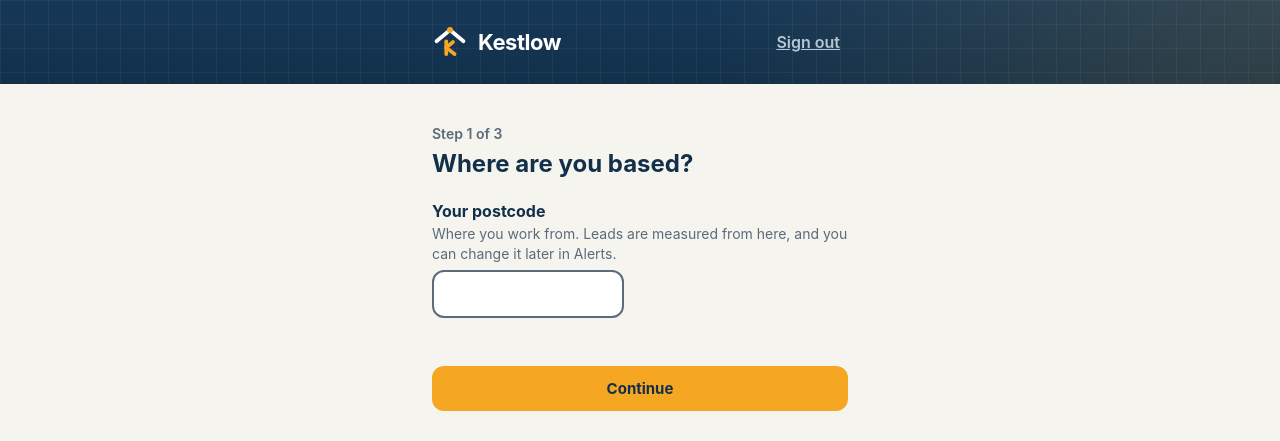
Test: OnboardingGate › goes back to the previous question
In the field labelled "Your postcode": x=528, y=294 top-left (432, 270), bottom-right (624, 318), type "BR1 1AA"
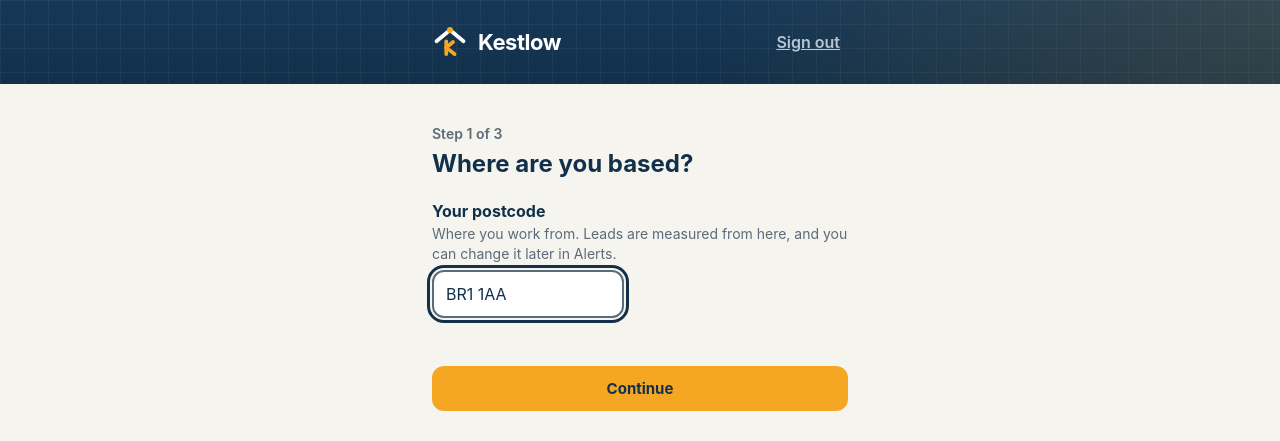
Click the button "Continue": x=640, y=389 top-left (432, 366), bottom-right (848, 411)
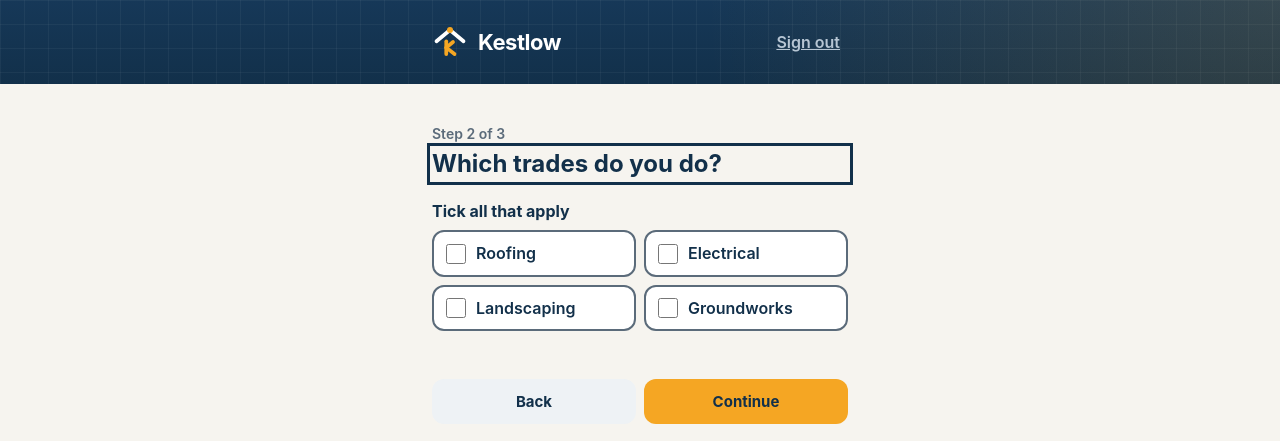
Result: the heading "Which trades do you do?" is shown at top-left (432, 149), bottom-right (722, 178)
Click the button "Back": x=534, y=402 top-left (432, 379), bottom-right (636, 424)
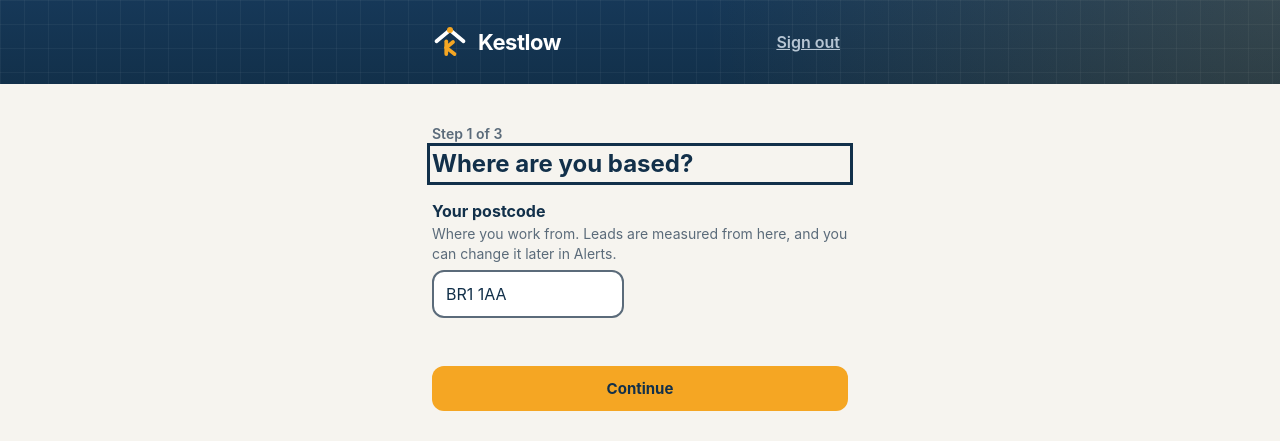
Result: the field labelled "Your postcode" holds "BR1 1AA" at top-left (432, 270), bottom-right (624, 318)
